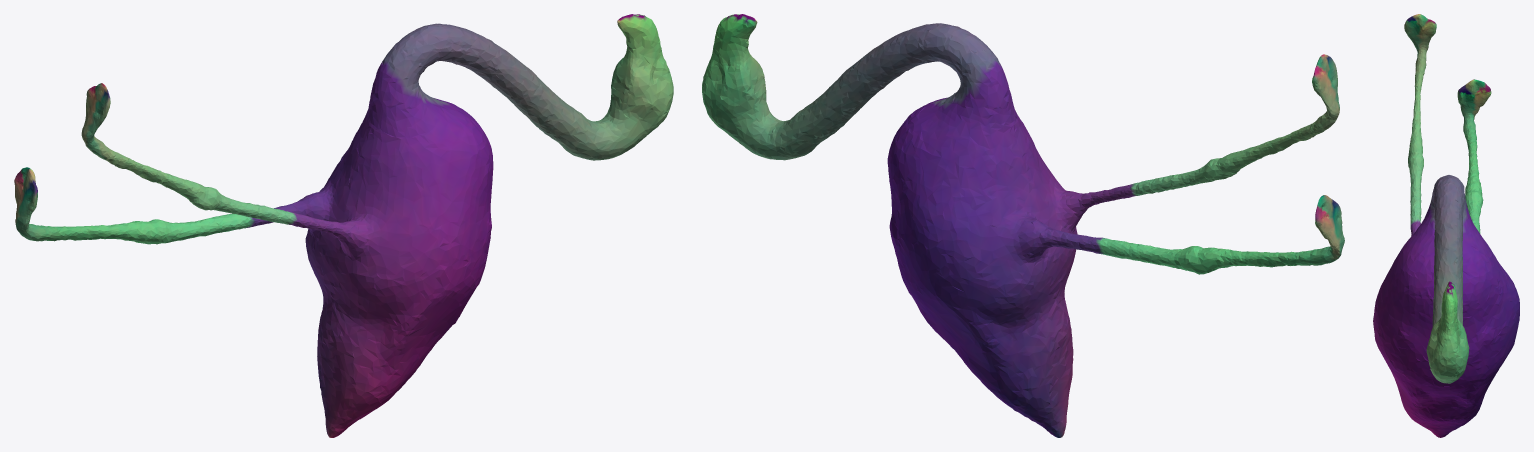
Rendered from flamingo-17.off.obj.
The picture shows the model from 3 angles, left to right: view 1: azimuth 30°, elevation 25°; view 2: azimuth 150°, elevation 25°; view 3: azimuth 270°, elevation 25°; orthographic projection. The views are drawn at different scales.
Size of the model in its own units: 1.58 by 1 by 0.4027.
